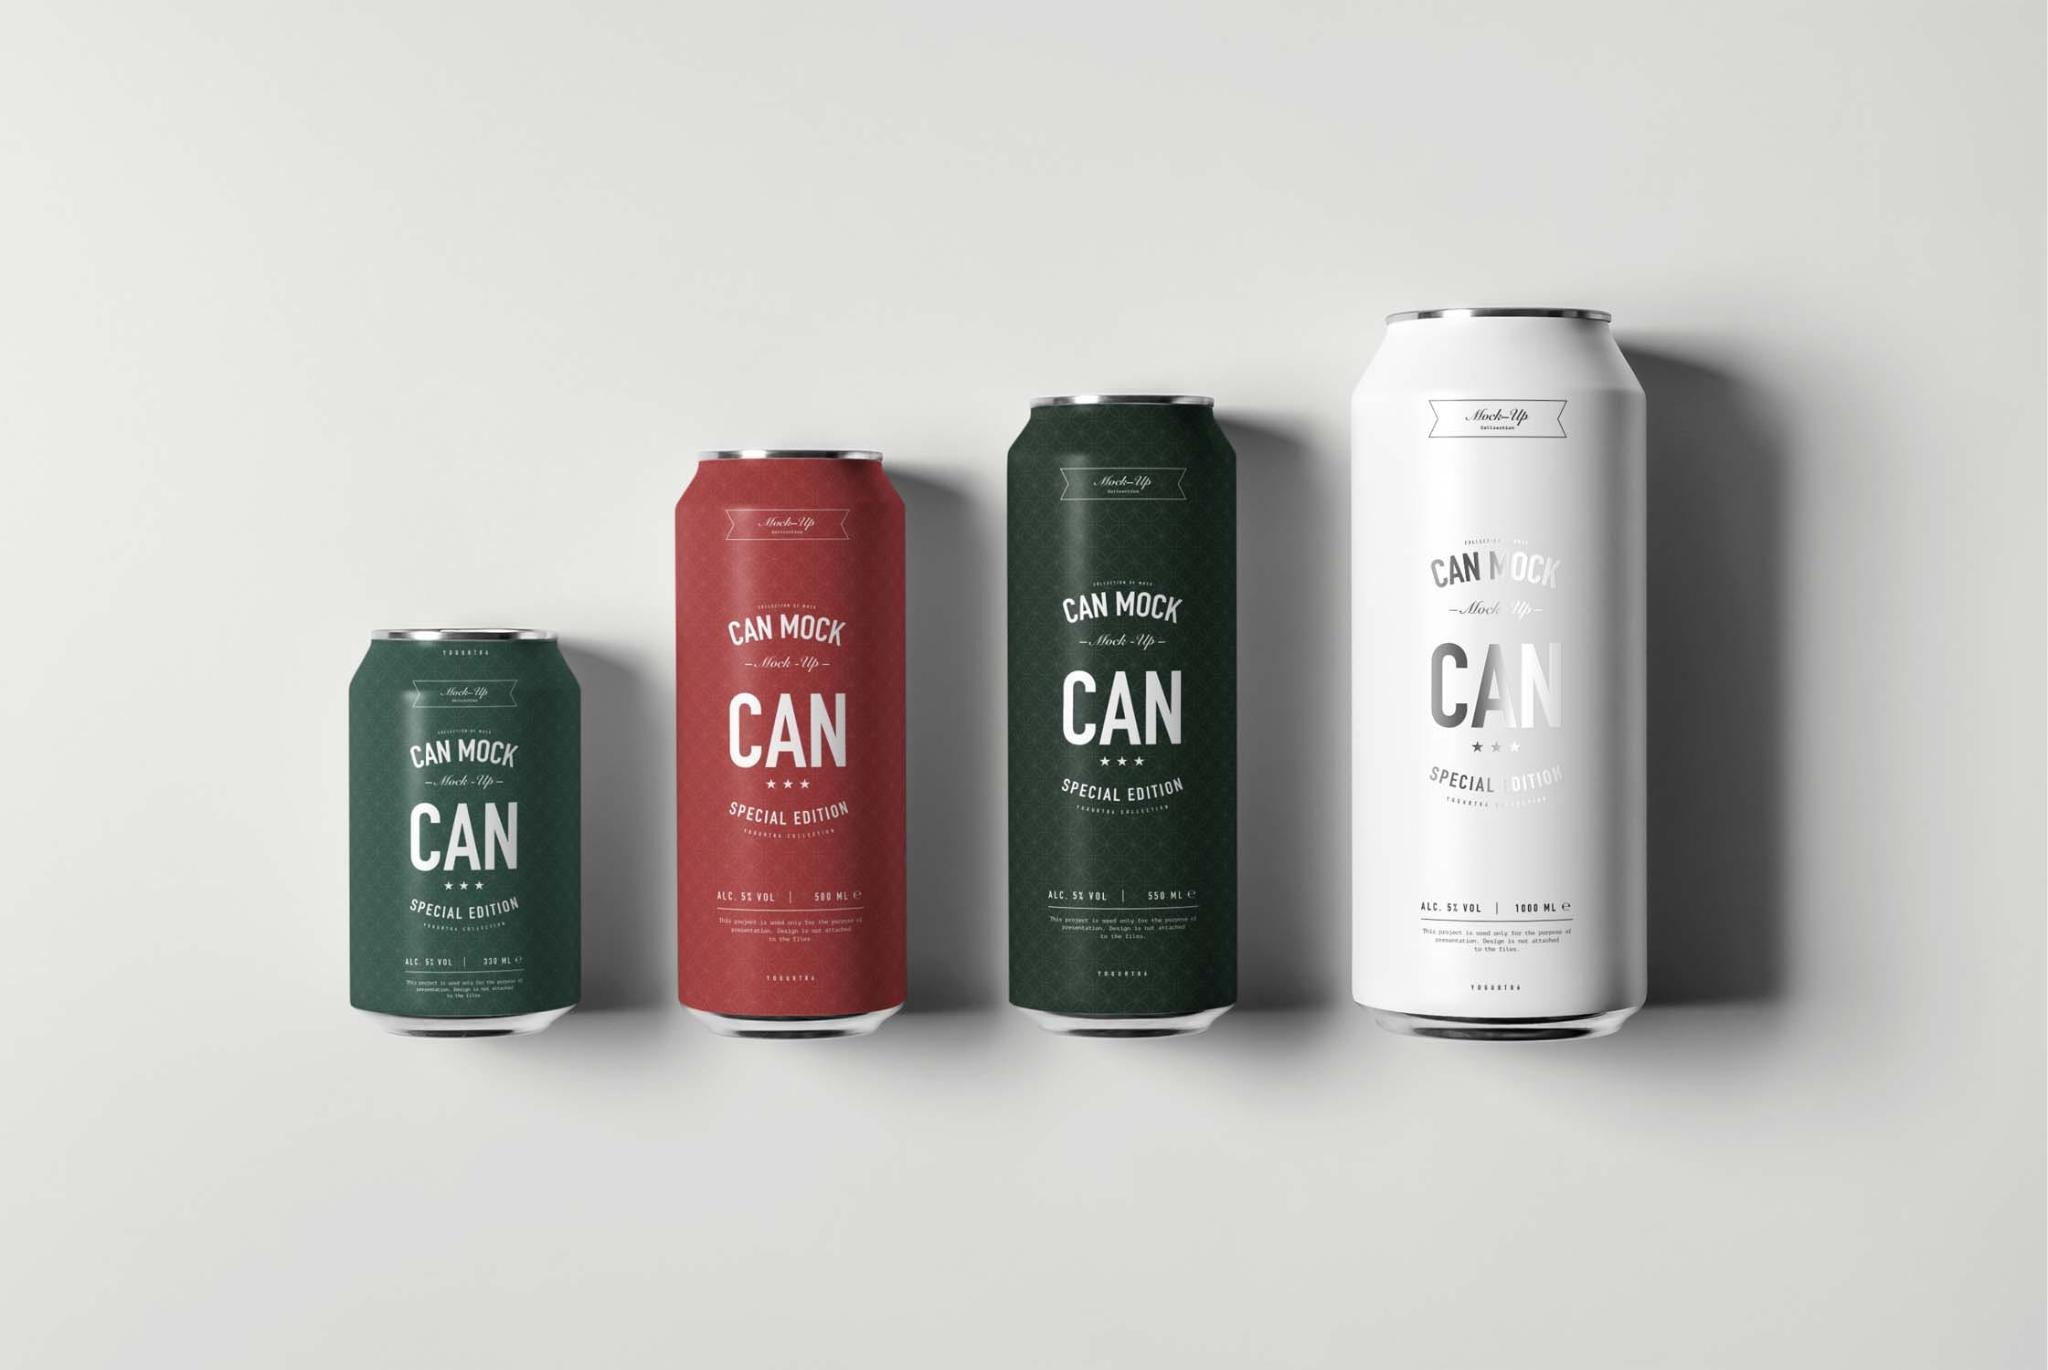metal: (1009, 396, 1236, 1037), (676, 448, 903, 1040), (348, 628, 579, 1037), (1278, 268, 1279, 277)
